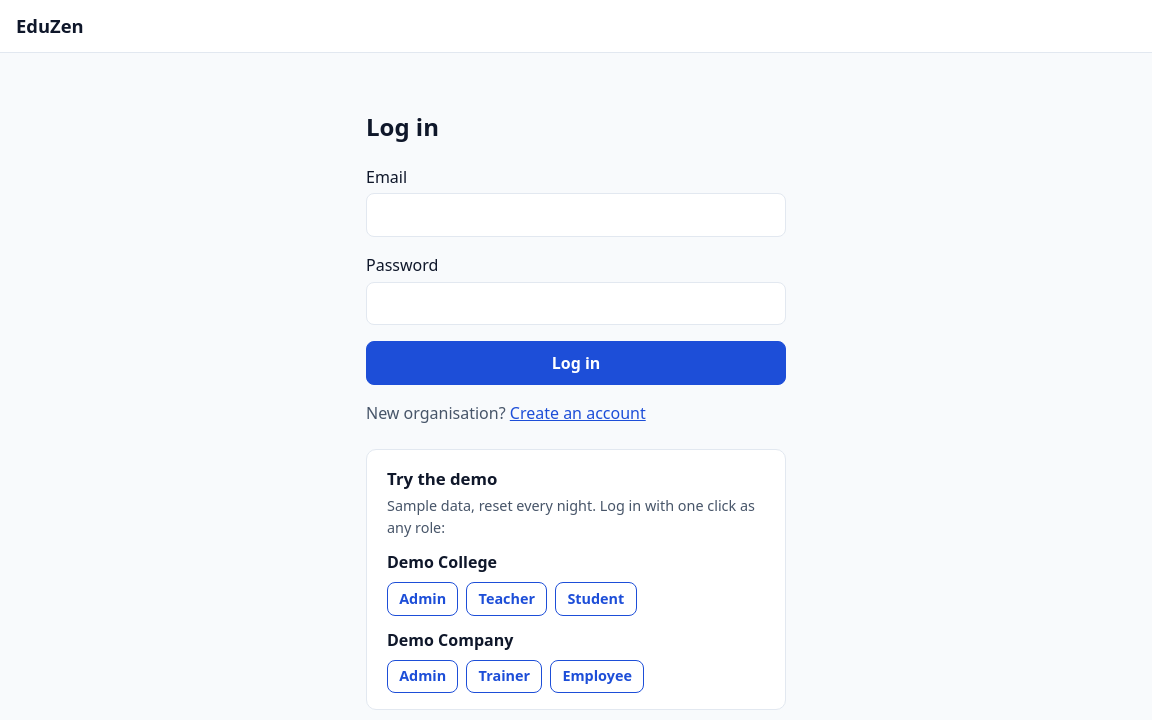
it: demo logins › log in with one click
The width and height of the screenshot is (1152, 720).
Click the button with aria-label "Log in to Demo" at (507, 599), box [466,582,547,616]
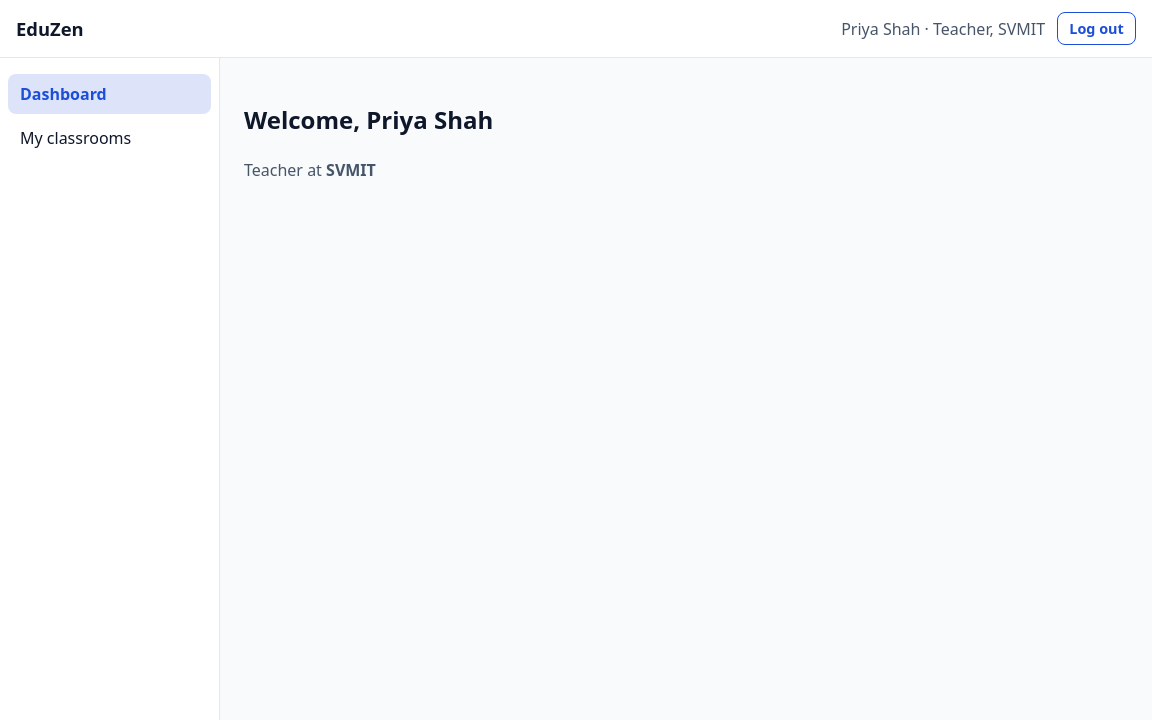
Result: the heading "Welcome, Priya Shah" is shown at [244,103,493,136]
